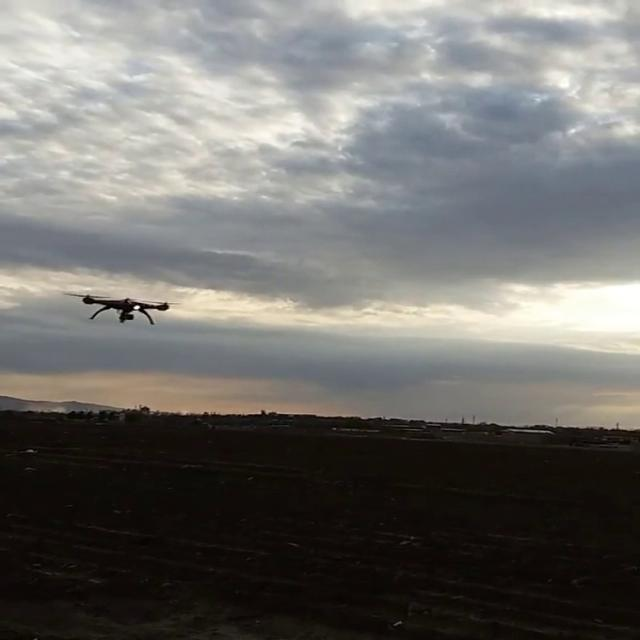drone: (68, 289, 179, 325)
